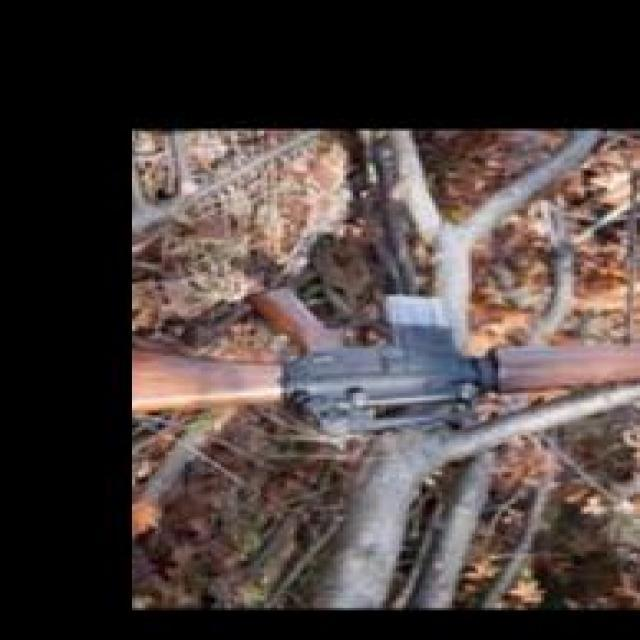weapon: (122, 287, 640, 438)
